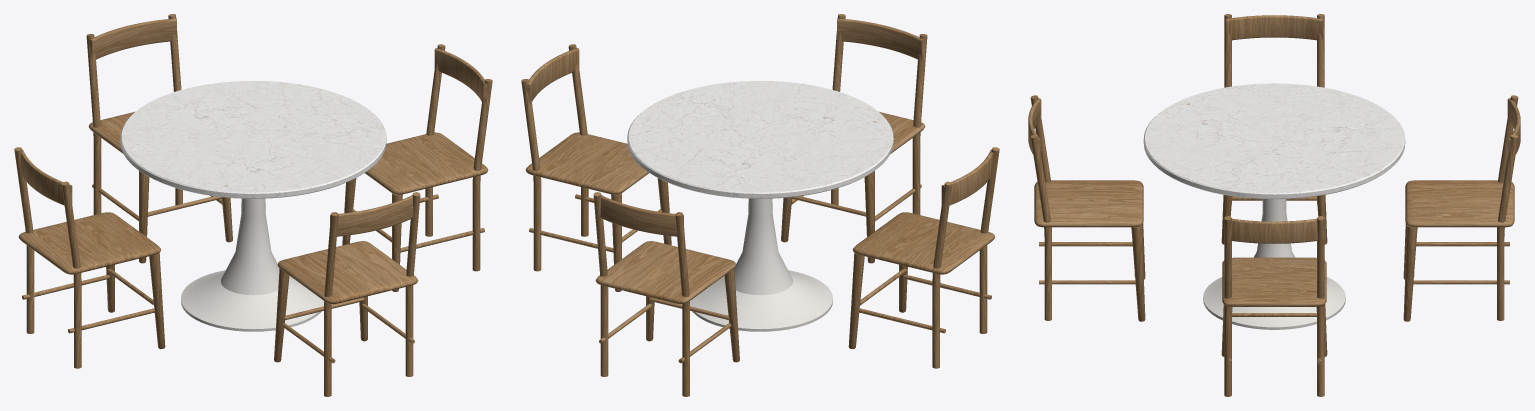
The model's file is set_comedor_redondo_4.glb.
3 renders of one model, left to right at view 1: azimuth 30°, elevation 25°; view 2: azimuth 150°, elevation 25°; view 3: azimuth 270°, elevation 25°, orthographic.
Visible parts, largest first — view 1: set_comedor_redondo_4; view 2: set_comedor_redondo_4; view 3: set_comedor_redondo_4.
Boxes of the visible parts, box(x1,y1,x2,y2) form: set_comedor_redondo_4: box(14, 14, 492, 396); set_comedor_redondo_4: box(521, 14, 999, 396); set_comedor_redondo_4: box(1028, 14, 1520, 396).
Size of the model in its own units: 2.07 by 0.8526 by 2.07.
Materials: 3 (2 with a texture image).
